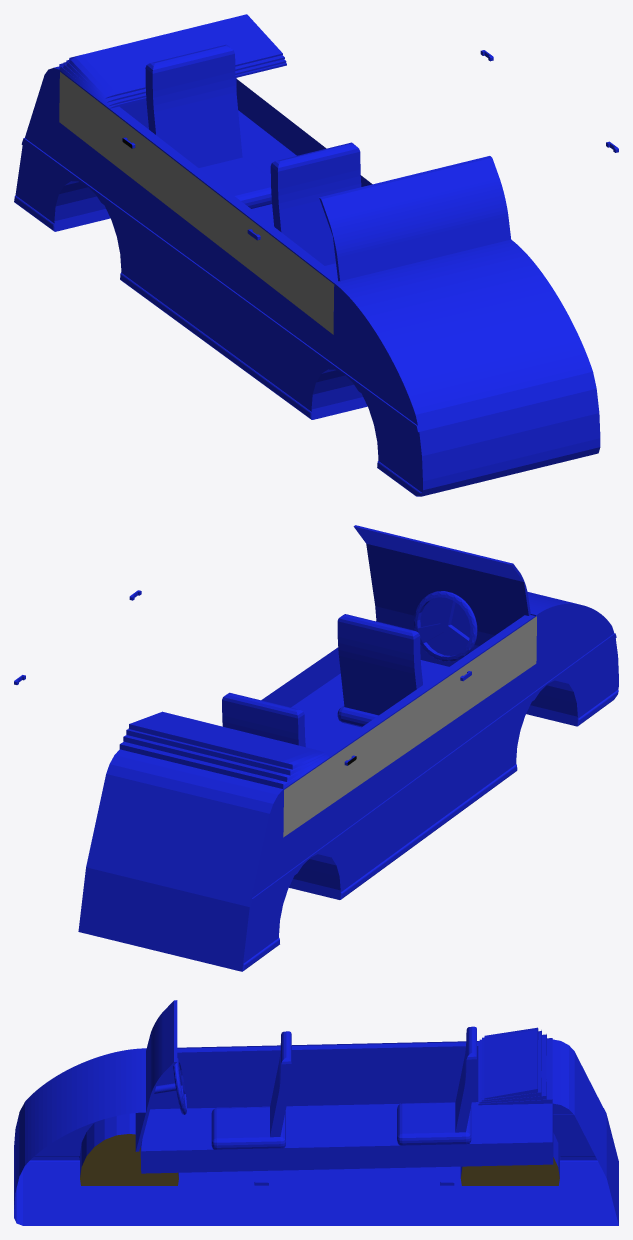
Rendered from CarosserieCabrio.glb.
3 renders of one model, top to bottom at view 1: azimuth 30°, elevation 25°; view 2: azimuth 150°, elevation 25°; view 3: azimuth 270°, elevation 25°, orthographic. The views are drawn at different scales.
Visible parts, largest first — view 1: Cabrio; view 2: Cabrio; view 3: Cabrio.
Boxes of the visible parts, <box> form: Cabrio: <box>14,14,618,496</box>; Cabrio: <box>14,525,618,971</box>; Cabrio: <box>14,1000,618,1225</box>.
Bounding box in the file's own units: 1.87 × 1.1 × 3.67.
